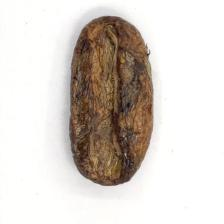NG: (71, 16, 154, 184)
